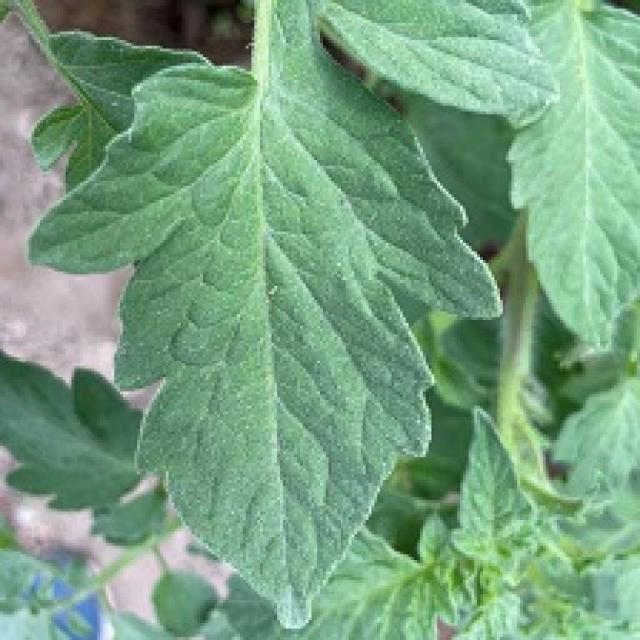Healthy: (0, 0, 603, 640)
